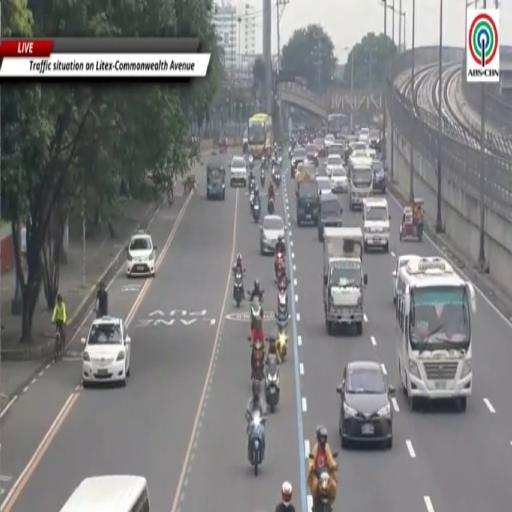bus: (396, 258, 476, 410), (61, 475, 151, 511), (348, 151, 372, 211), (248, 114, 272, 158), (328, 115, 347, 137)
car: (337, 361, 395, 447), (81, 316, 131, 387), (363, 198, 390, 252), (126, 230, 156, 277), (393, 254, 419, 302), (318, 194, 342, 242), (260, 215, 286, 254), (207, 164, 225, 200), (230, 156, 247, 186), (372, 160, 386, 194), (291, 147, 306, 178), (331, 167, 347, 193), (326, 154, 343, 178), (316, 176, 332, 196), (369, 130, 381, 151), (313, 137, 326, 156), (306, 144, 318, 164), (328, 143, 344, 156), (358, 127, 369, 142), (324, 134, 335, 147)
motorcycle: (248, 411, 266, 475), (313, 468, 332, 511), (265, 355, 279, 412), (250, 291, 263, 328), (252, 341, 264, 381), (276, 318, 287, 361), (233, 269, 245, 308), (276, 267, 290, 297), (277, 288, 288, 319), (275, 252, 284, 281), (252, 201, 260, 222), (248, 175, 255, 193), (274, 169, 281, 187), (249, 190, 254, 212), (268, 197, 274, 215), (220, 138, 227, 153), (261, 168, 265, 186), (261, 155, 266, 169), (277, 155, 282, 167), (249, 154, 253, 168), (289, 147, 292, 157)
tricycle: (400, 199, 423, 241)
truck: (323, 228, 367, 334), (296, 164, 319, 226)
